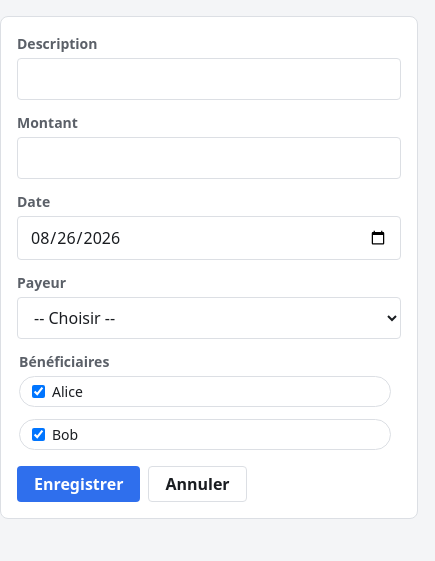
Test: ExpenseForm › bloque la soumission et n'appelle pas l'API si aucun bénéficiaire n'est coché
Type "Restaurant" into the field labelled "Description" at coordinates (209, 79), box [17,58,401,100]
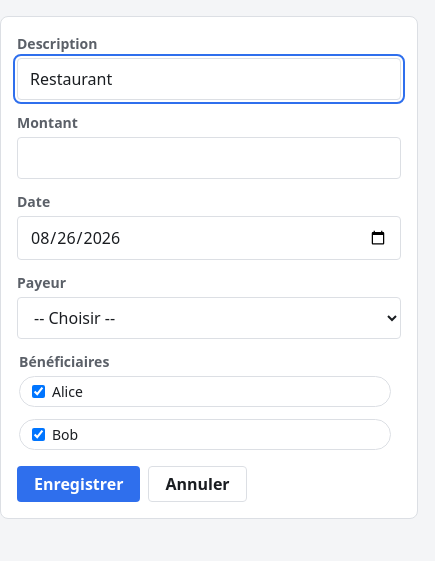
Type "30" into the number field labelled "Montant" at coordinates (209, 158), box [17,137,401,179]
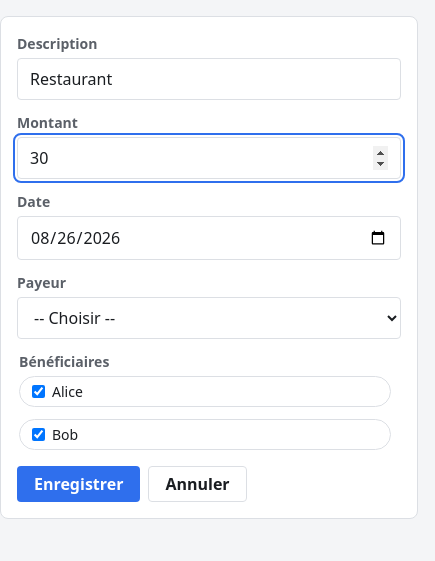
Select "Alice" in the dropdown labelled "Payeur" at coordinates (209, 318), box [17,297,401,339]
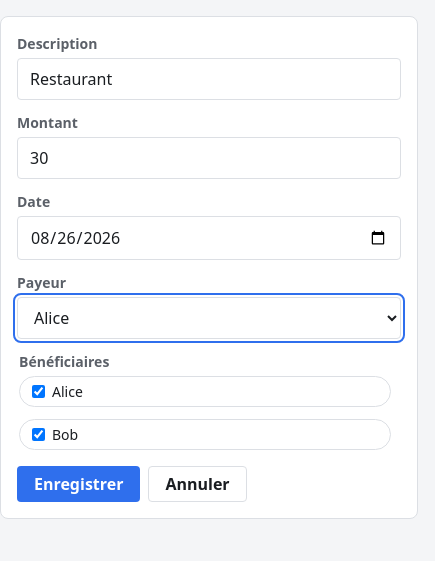
Click the checkbox labelled "Alice" at coordinates (38, 392), box [32,385,45,398]
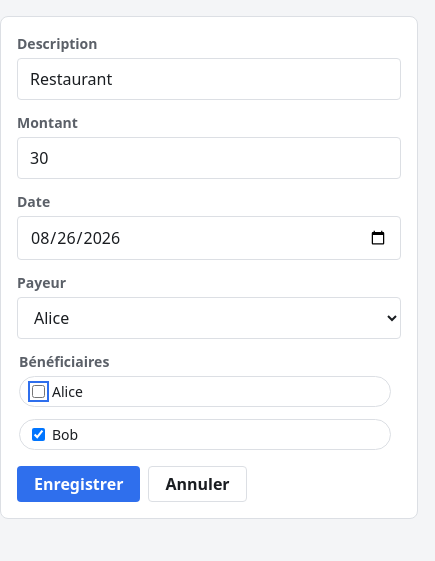
Click the checkbox labelled "Bob" at coordinates (38, 434), box [32,428,45,441]
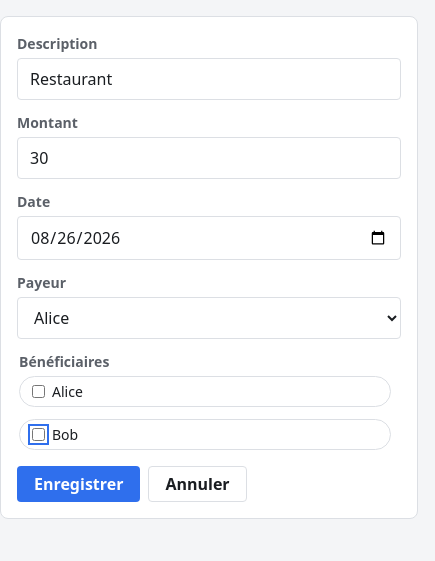
Click the button "Enregistrer" at coordinates (79, 484), box [17,466,140,502]
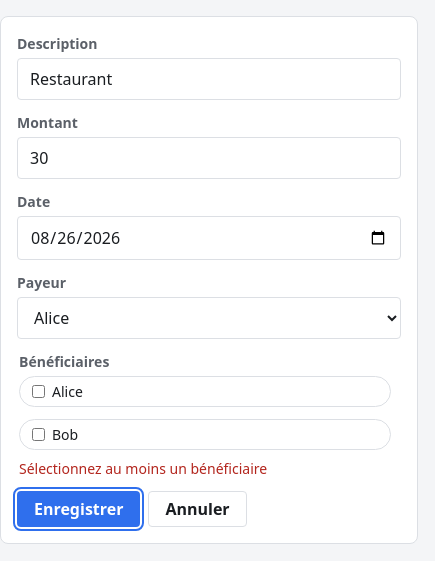
expect the text "Sélectionnez au moins un bénéficiaire" is shown: met, box [19,459,267,478]
